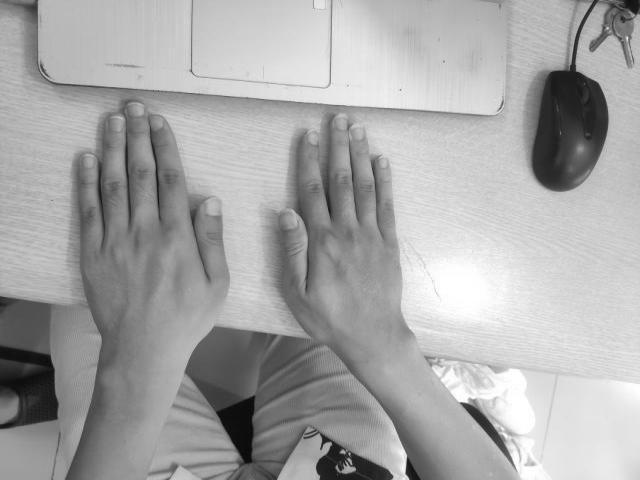not-gloved: (73, 101, 231, 346), (278, 117, 405, 340)
